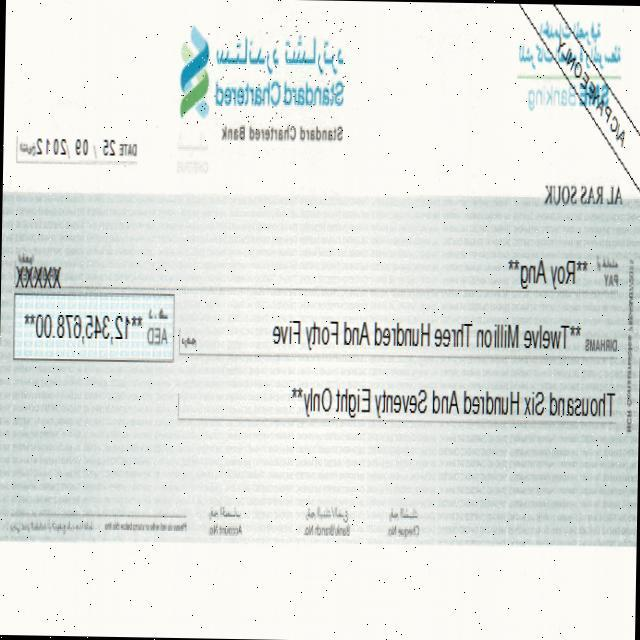Standard Chartered: (177, 23, 347, 129)
